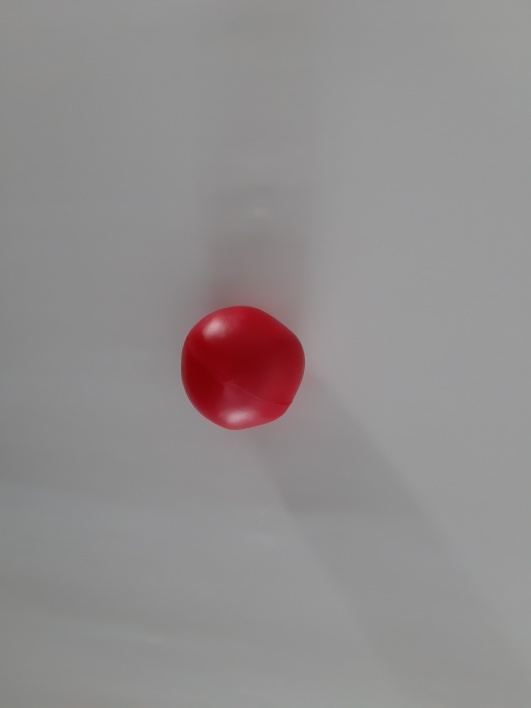tomato: (170, 300, 318, 443)
